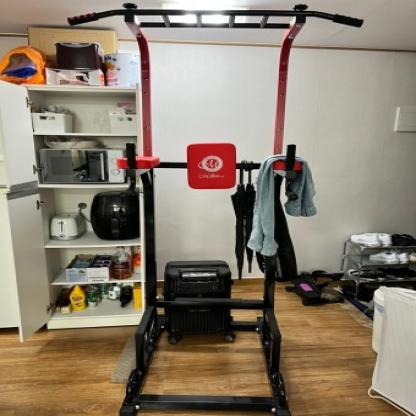chinning dipping: (70, 3, 362, 416)
